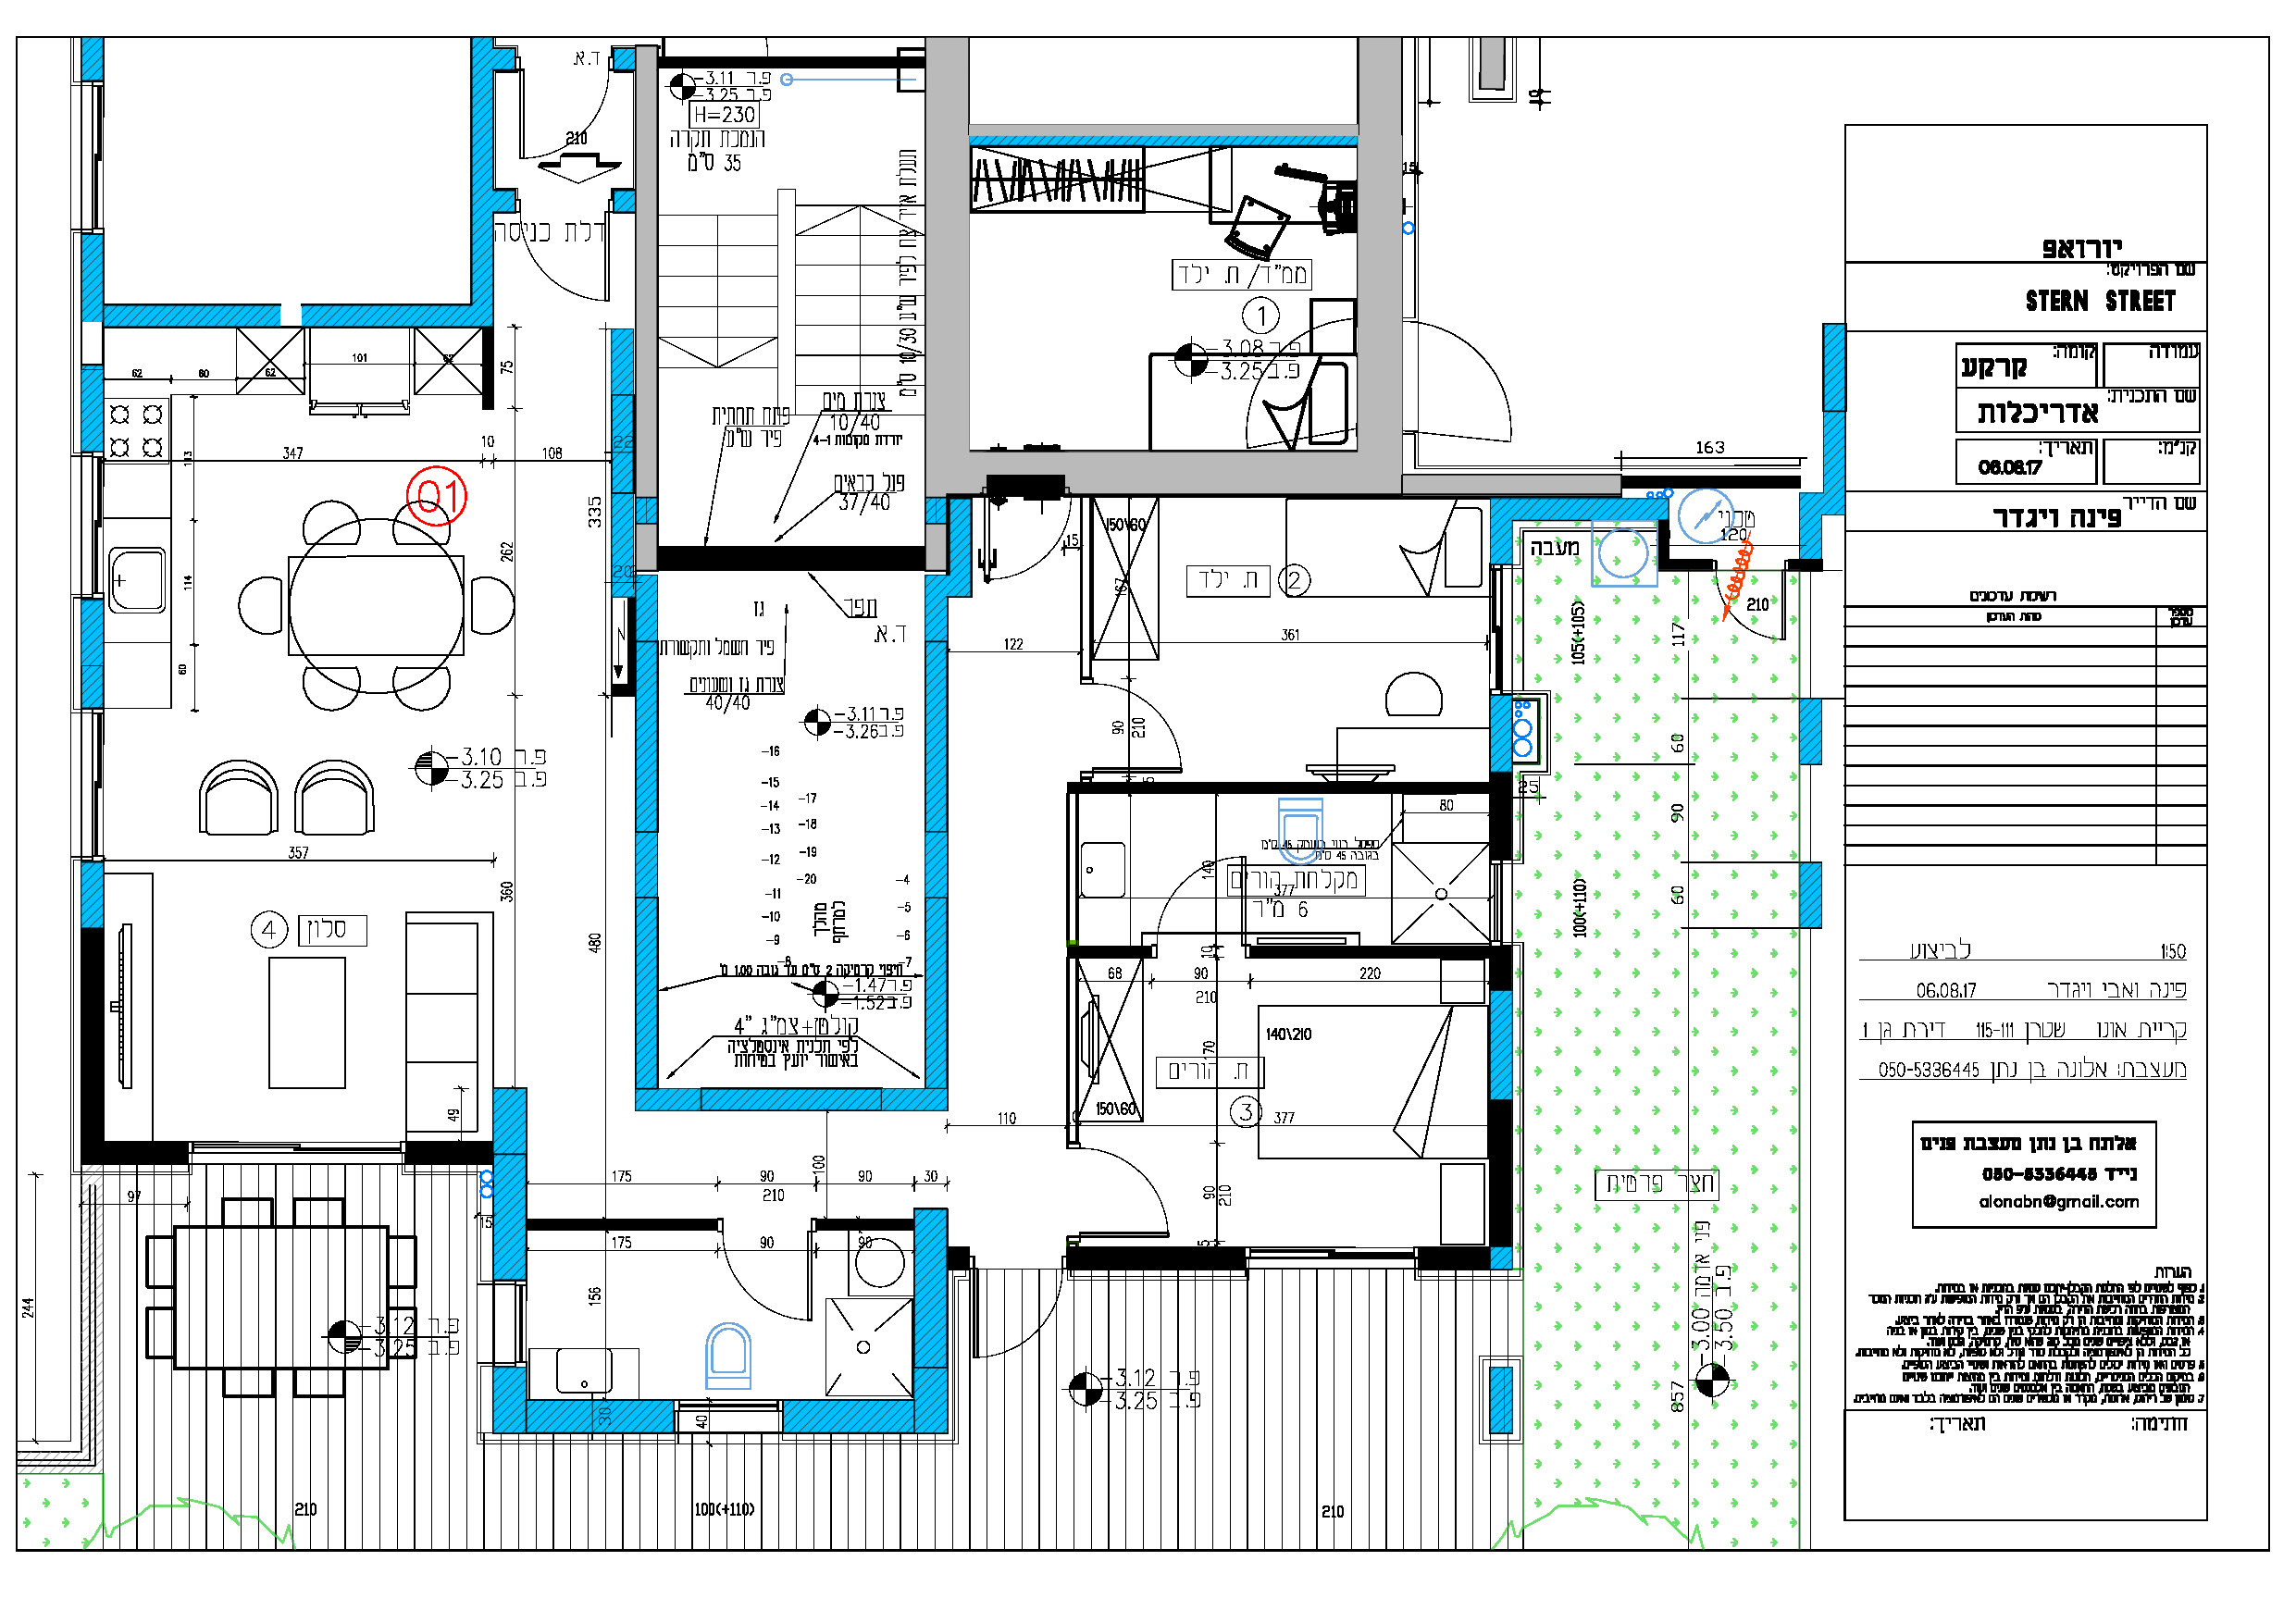door: (1433, 311, 1527, 448), (1100, 676, 1202, 776), (713, 1233, 822, 1324), (509, 234, 624, 320), (1089, 1138, 1179, 1244), (1145, 845, 1260, 927), (504, 81, 615, 158)
wall: (929, 39, 968, 492), (1360, 40, 1398, 492), (638, 46, 659, 494), (492, 1089, 529, 1286), (1089, 460, 1340, 488), (661, 546, 931, 571), (471, 37, 492, 325), (913, 1210, 947, 1370), (634, 638, 659, 833), (527, 1403, 675, 1435), (1065, 1247, 1247, 1272), (636, 894, 659, 1089), (83, 931, 102, 1156), (302, 304, 492, 327), (701, 1091, 884, 1112), (783, 1402, 915, 1430), (662, 56, 926, 70), (1490, 1105, 1511, 1242), (104, 306, 278, 321), (79, 234, 102, 320), (613, 395, 632, 492), (613, 495, 631, 592), (1490, 778, 1513, 850), (86, 1145, 186, 1161), (611, 334, 632, 390)
window: (186, 1129, 408, 1161), (1245, 1233, 1419, 1268), (86, 79, 114, 232), (88, 708, 107, 864), (1484, 859, 1507, 947), (90, 451, 102, 601)
